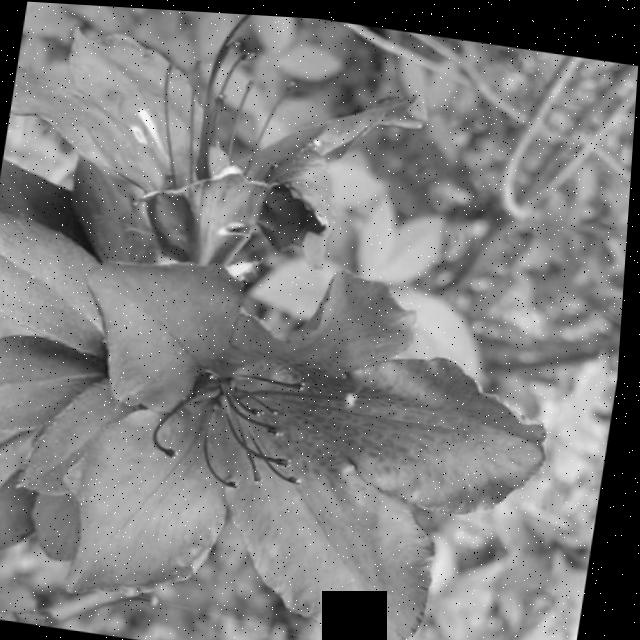azalea: (44, 222, 568, 640), (0, 0, 427, 316)
